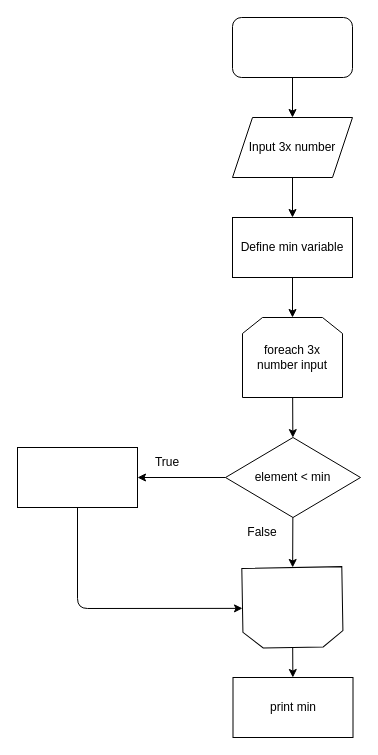
Some shapes in this 378 by 755 pixel diagram are drawn without their labels. Each missing label, with the centre of its shape:
min = value: the point at 77,477
Start: the point at 292,47
